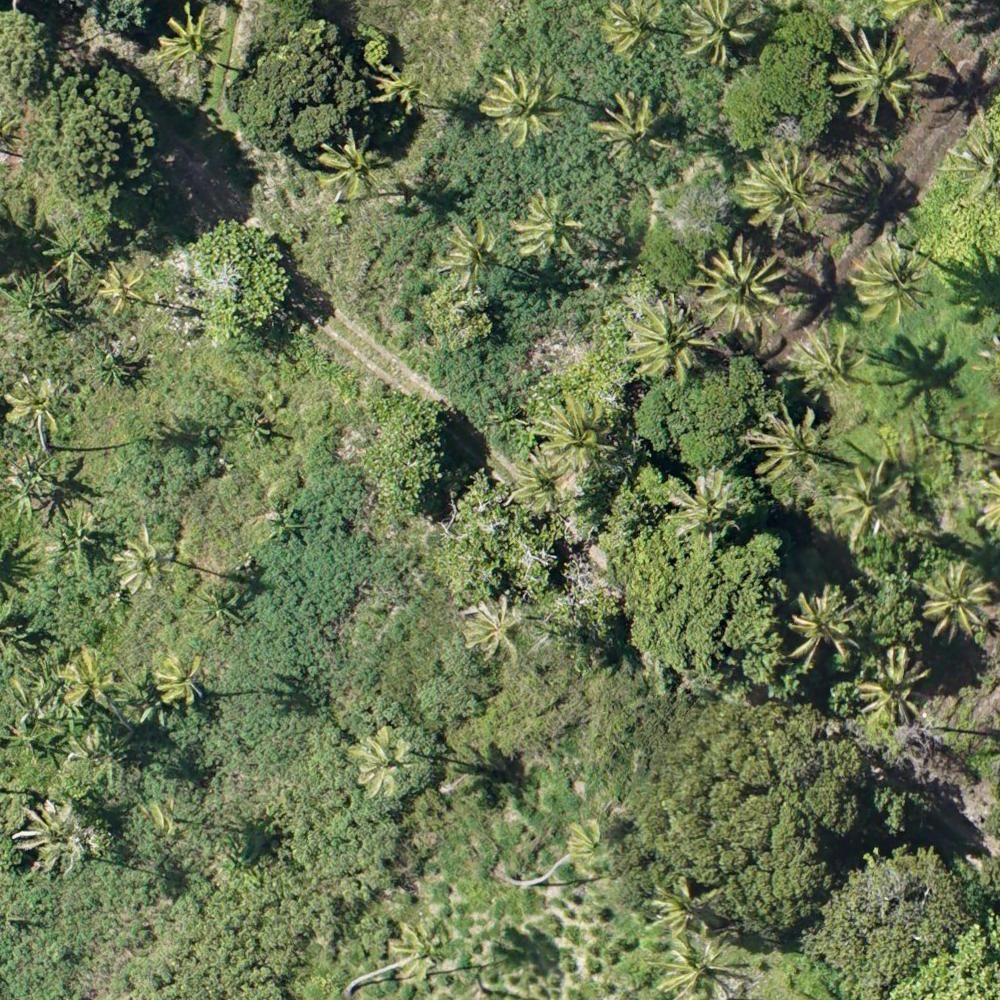Palm: (742, 139, 831, 236), (695, 244, 787, 333), (835, 27, 916, 119), (620, 295, 707, 377), (790, 321, 879, 396), (482, 64, 564, 143), (6, 797, 85, 876), (541, 388, 616, 471), (920, 562, 993, 642), (757, 404, 829, 485), (835, 462, 906, 543), (595, 91, 676, 161), (857, 248, 933, 322), (346, 723, 416, 802), (858, 649, 926, 730), (786, 588, 859, 662), (657, 938, 746, 997), (684, 1, 758, 71), (316, 130, 390, 199), (515, 188, 585, 259), (155, 5, 224, 75), (1, 373, 68, 444), (672, 466, 735, 541), (436, 217, 502, 286), (56, 645, 119, 712), (117, 534, 181, 599), (652, 871, 716, 936), (465, 594, 525, 661), (600, 1, 667, 60), (388, 918, 451, 980), (509, 450, 570, 514), (150, 652, 208, 706), (96, 267, 146, 318), (374, 65, 430, 110), (564, 816, 611, 864)
